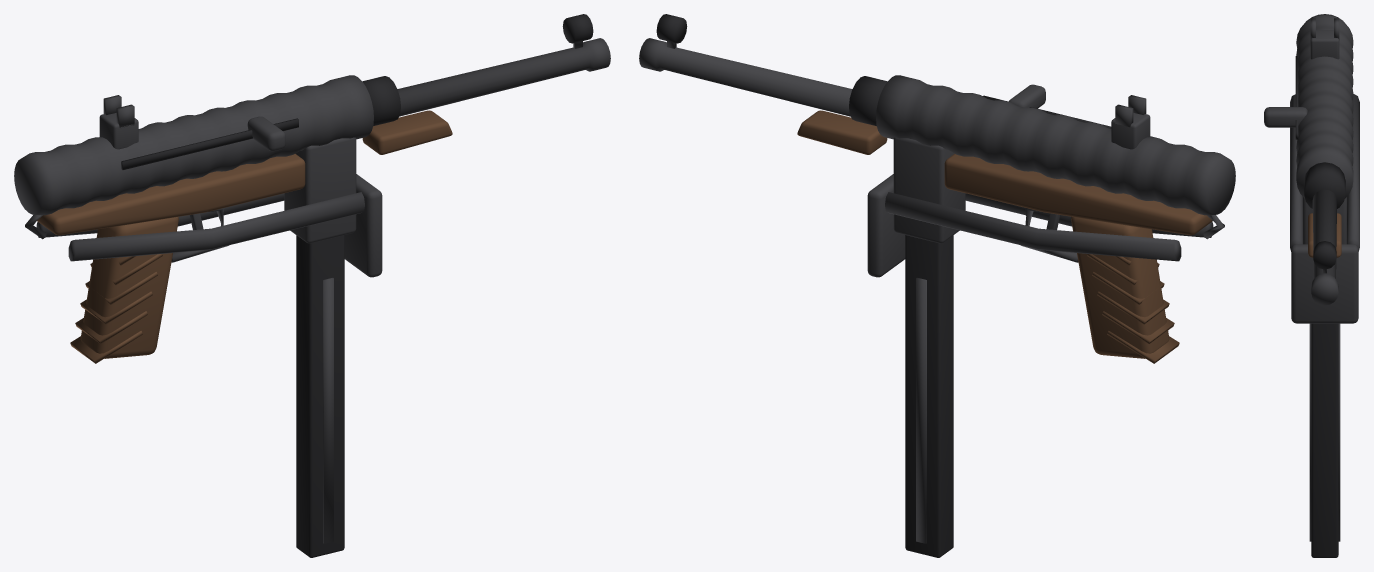
The picture shows the model from 3 angles, left to right: view 1: azimuth 30°, elevation 25°; view 2: azimuth 150°, elevation 25°; view 3: azimuth 270°, elevation 25°; orthographic projection. The views are drawn at different scales.
Parts seen in each view (by area): view 1: SM_MP40; view 2: SM_MP40; view 3: SM_MP40.
Boxes of the visible parts, x1,y1,x2,y2 form: SM_MP40: (14,14,610,557); SM_MP40: (639,14,1235,557); SM_MP40: (1264,14,1359,557).
Bounding box in the file's own units: 0.461 × 0.377 × 0.074.
